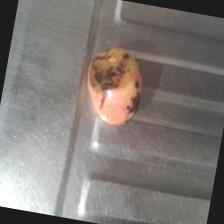Mango Rotten: (76, 44, 152, 128)
